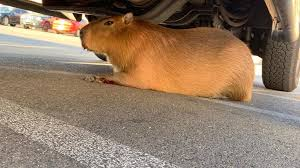capivara: (80, 11, 255, 102)
